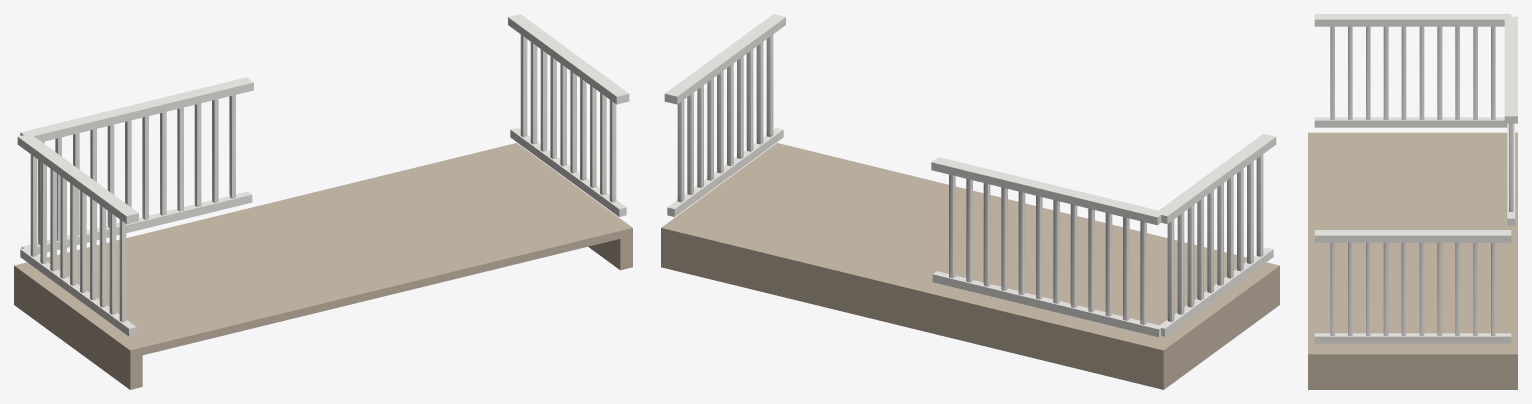
The model's file is porch_deck.glb.
3 views of the same model, side by side, from view 1: azimuth 30°, elevation 25°; view 2: azimuth 150°, elevation 25°; view 3: azimuth 270°, elevation 25° (orthographic). The views are drawn at different scales.
Visible parts, largest first — view 1: porch_deck_wood, porch_deck_trim; view 2: porch_deck_wood, porch_deck_trim; view 3: porch_deck_wood, porch_deck_trim.
Boxes of the visible parts, x1,y1,x2,y2 form: porch_deck_wood: (14,143,632,389); porch_deck_trim: (17,14,629,336); porch_deck_wood: (661,143,1279,389); porch_deck_trim: (664,14,1276,337); porch_deck_wood: (1308,132,1517,389); porch_deck_trim: (1314,14,1517,343).
Size of the model in its own units: 4 by 1.3 by 1.6.
